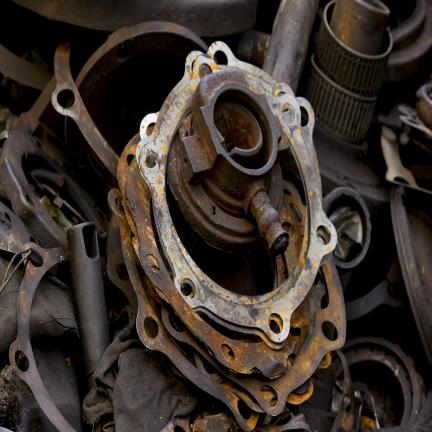karat: (2, 10, 99, 432), (109, 190, 239, 416), (168, 71, 287, 255), (319, 0, 432, 181), (264, 260, 350, 420), (127, 162, 158, 259)
